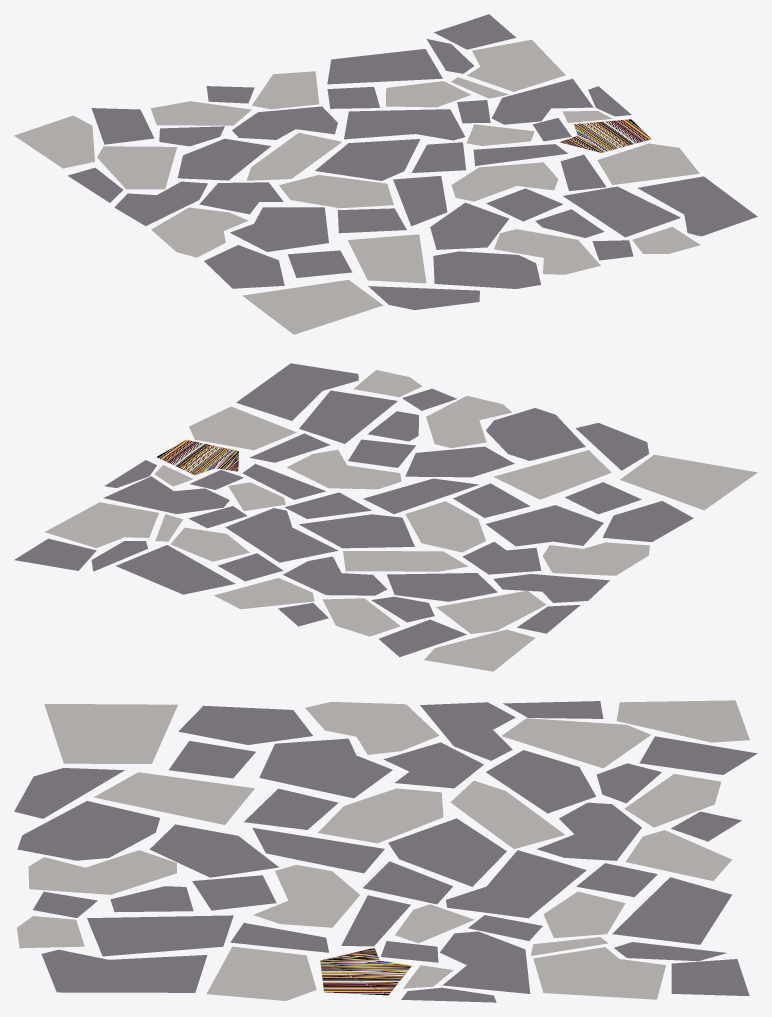
File: road_short.fbx
3 renders of one model, top to bottom at view 1: azimuth 30°, elevation 25°; view 2: azimuth 150°, elevation 25°; view 3: azimuth 270°, elevation 25°, orthographic. The views are drawn at different scales.
Visible parts, largest first — view 1: road_short; view 2: road_short; view 3: road_short.
Part boxes in pixels (x1,y1,x2,y2): road_short: [14, 14, 757, 334]; road_short: [14, 363, 757, 671]; road_short: [14, 700, 757, 1002].
Size of the model in its own units: 201 by 0.336 by 210.
